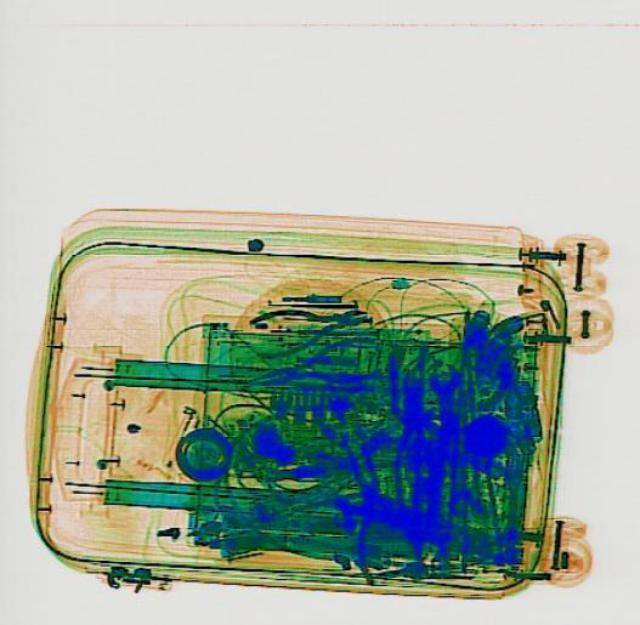Pliers: (243, 329, 377, 399), (244, 292, 370, 357)
Wrench: (424, 366, 468, 452)
